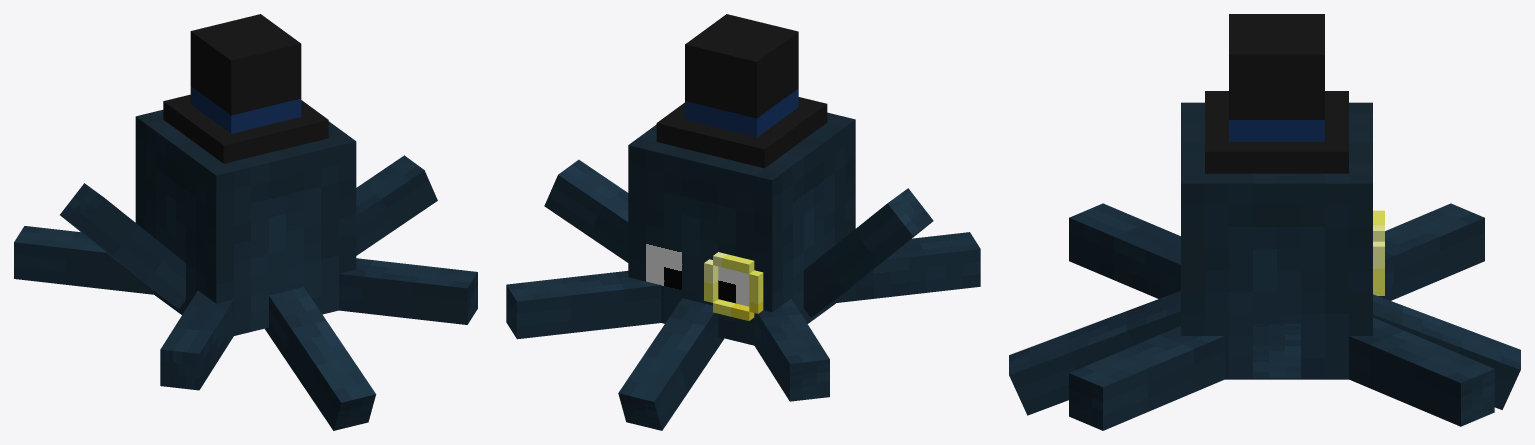
The model's file is squid.gltf.
3 renders of one model, left to right at view 1: azimuth 30°, elevation 25°; view 2: azimuth 150°, elevation 25°; view 3: azimuth 270°, elevation 25°, orthographic. The views are drawn at different scales.
Visible parts, largest first — view 1: body, tentacle5, tentacle6, hat5, tentacle3, tentacle2, hat1, tentacle4, tentacle7, hat2, hat7, hat4; view 2: body, tentacle8, tentacle1, hat5, tentacle3, tentacle4, hat1, tentacle2, tentacle7, hat2, hat3, hat4 (+2 smaller); view 3: body, tentacle6, tentacle8, hat5, tentacle5, tentacle4, hat1, tentacle2, tentacle1, tentacle7, hat2, hat8 (+2 smaller).
Boxes of the visible parts, left/top/right/bottom form: body: left=135, top=110, right=356, bottom=335; tentacle5: left=265, top=287, right=376, bottom=430; tentacle6: left=339, top=258, right=477, bottom=324; hat5: left=190, top=14, right=301, bottom=97; tentacle3: left=60, top=183, right=185, bottom=308; tentacle2: left=14, top=226, right=153, bottom=294; hat1: left=163, top=94, right=328, bottom=163; tentacle4: left=160, top=290, right=233, bottom=390; tentacle7: left=356, top=155, right=437, bottom=255; hat2: left=190, top=86, right=301, bottom=133; hat7: left=248, top=80, right=301, bottom=110; hat4: left=201, top=75, right=248, bottom=115; body: left=628, top=112, right=855, bottom=345; tentacle8: left=506, top=271, right=661, bottom=339; tentacle1: left=618, top=298, right=724, bottom=430; hat5: left=685, top=14, right=798, bottom=99; tentacle3: left=803, top=188, right=933, bottom=317; tentacle4: left=836, top=232, right=980, bottom=302; hat1: left=656, top=97, right=827, bottom=168; tentacle2: left=754, top=298, right=829, bottom=401; tentacle7: left=544, top=159, right=628, bottom=262; hat2: left=685, top=88, right=798, bottom=137; hat3: left=685, top=82, right=767, bottom=118; hat4: left=767, top=69, right=798, bottom=110; body: left=1181, top=102, right=1372, bottom=379; tentacle6: left=1069, top=326, right=1224, bottom=430; tentacle8: left=1349, top=317, right=1494, bottom=426; hat5: left=1229, top=14, right=1324, bottom=97; tentacle5: left=1009, top=291, right=1180, bottom=415; tentacle4: left=1069, top=203, right=1180, bottom=298; hat1: left=1205, top=91, right=1348, bottom=173; tentacle2: left=1378, top=203, right=1484, bottom=300; tentacle1: left=1373, top=294, right=1520, bottom=409; tentacle7: left=1253, top=323, right=1300, bottom=377; hat2: left=1229, top=120, right=1324, bottom=141; hat8: left=1253, top=98, right=1300, bottom=119.
Bounding box in the file's own units: 2.56 × 2.13 × 2.66.
Materials: 1 (1 with a texture image).
